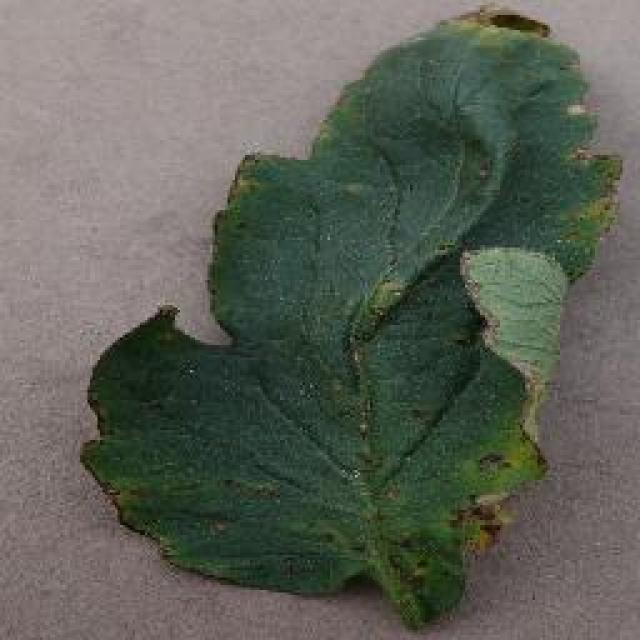Tomato bacterial spot leaf: (80, 12, 622, 620)
